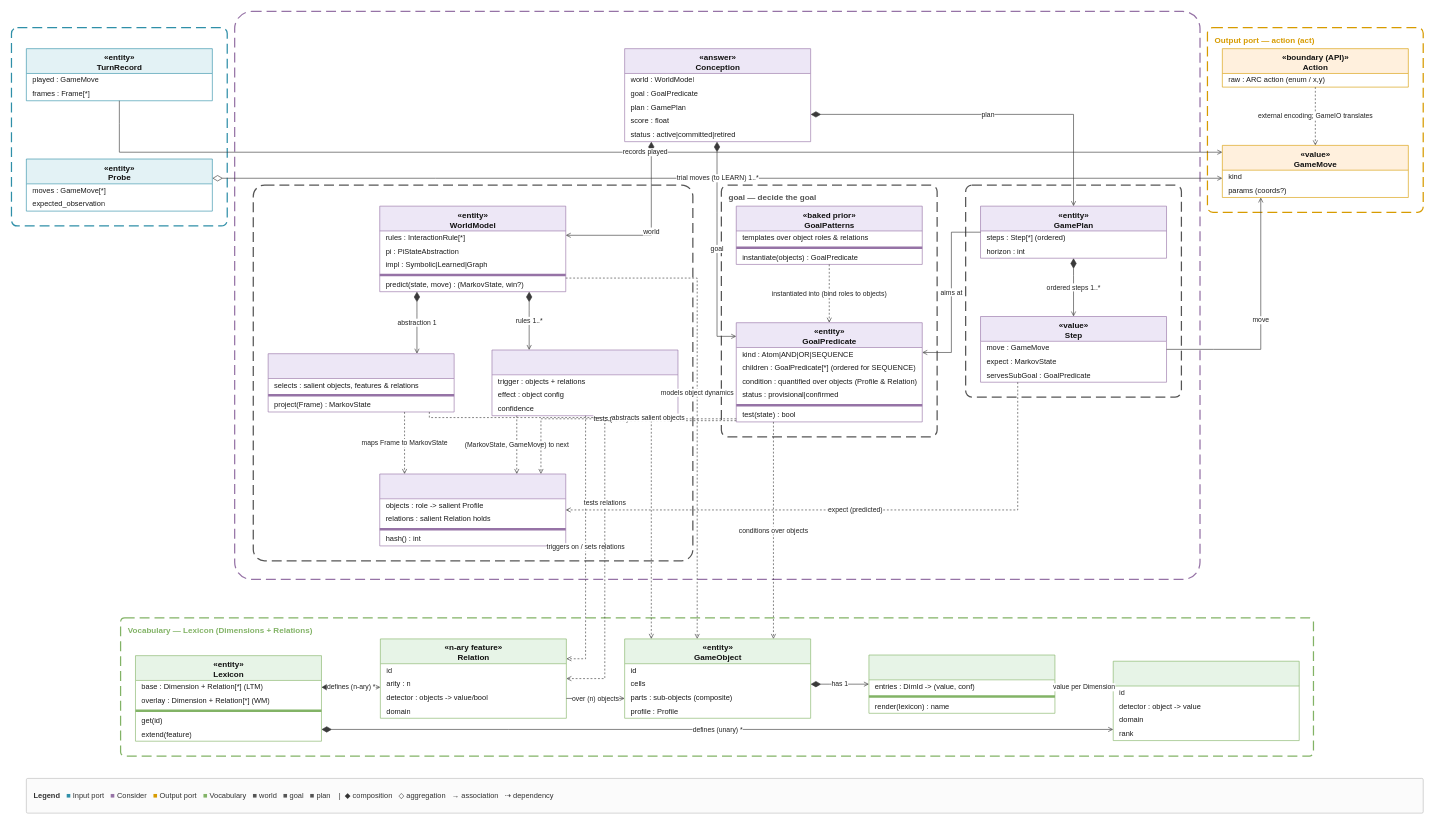
The diagram is 1434 pixels wide and 824 high, and some of its shapes have lost their labels. Here are the shapes that lost their labels. From the top down, the box of each, then its label:
(11, 27, 228, 226): Input port — perception (perceive)
(234, 11, 1200, 580): Consider — the Conception (decide)
(965, 184, 1182, 397): plan — plan toward the goal
(268, 353, 454, 412): «function pi» PiStateAbstraction
(252, 184, 693, 561): world — model the world
(491, 349, 678, 416): «entity» InteractionRule
(379, 473, 566, 546): «value» MarkovState
(868, 654, 1055, 713): «entity» Profile
(1113, 661, 1299, 741): «unary feature» Dimension
